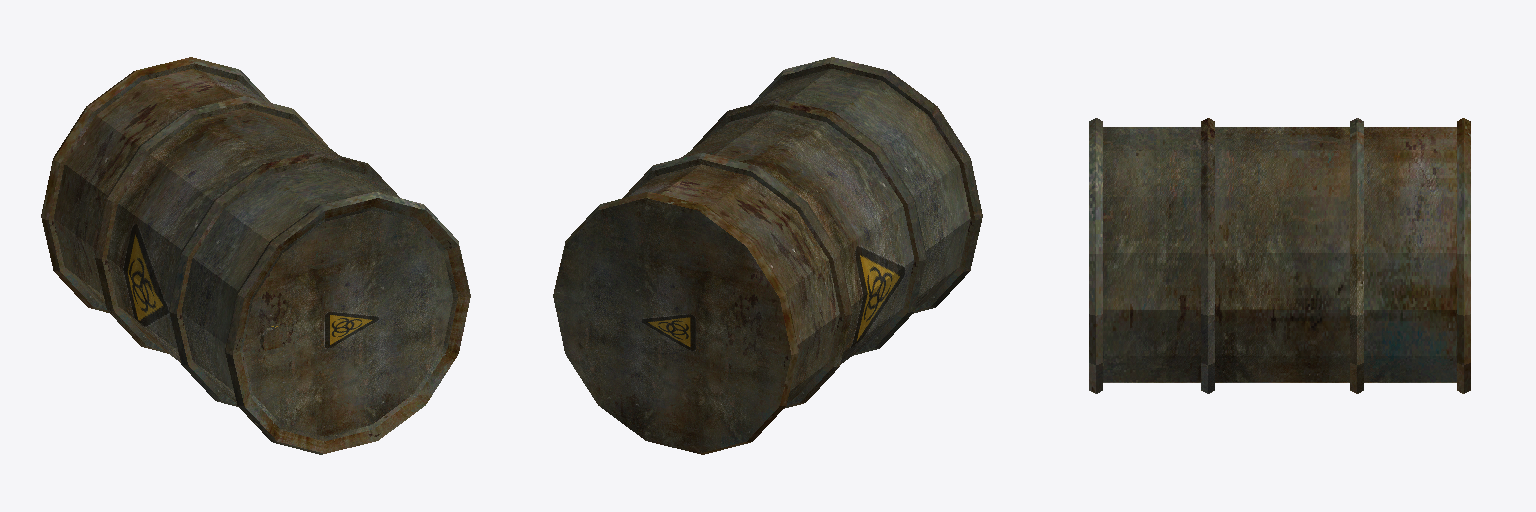
3 views of the same model, side by side, from view 1: azimuth 30°, elevation 25°; view 2: azimuth 150°, elevation 25°; view 3: azimuth 270°, elevation 25° (orthographic).
Parts seen in each view (by area): view 1: Cylinder01; view 2: Cylinder01; view 3: Cylinder01.
Part boxes in pixels (left/top/right/bottom): Cylinder01: left=41, top=57, right=470, bottom=454; Cylinder01: left=553, top=57, right=982, bottom=454; Cylinder01: left=1089, top=118, right=1470, bottom=393.
Size of the model in its own units: 0.6768 by 0.6598 by 0.9146.
Materials: 1 (1 with a texture image).